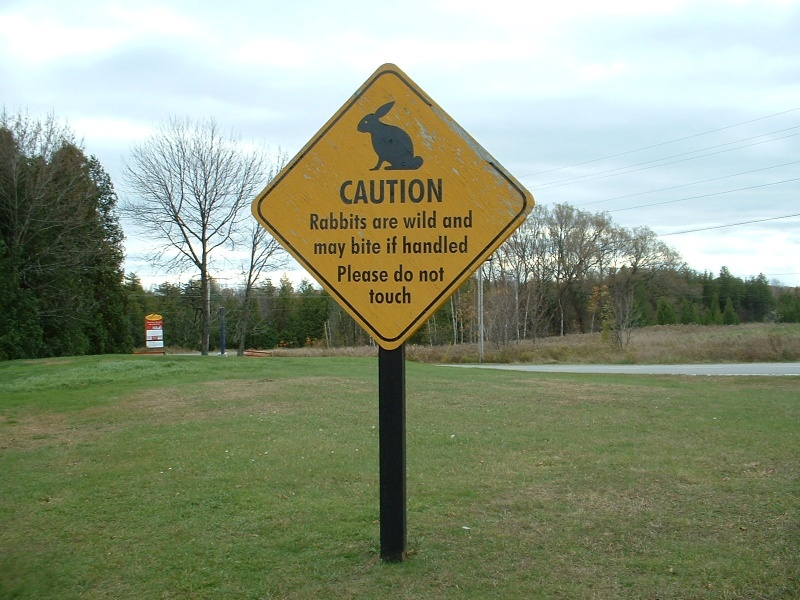text: (353, 178, 368, 206), (369, 178, 384, 206), (385, 178, 400, 206), (401, 178, 416, 206), (417, 178, 432, 206), (341, 178, 352, 206), (433, 178, 444, 206), (417, 210, 432, 230), (449, 209, 464, 229), (353, 264, 368, 284), (369, 264, 384, 284), (369, 286, 384, 306), (385, 286, 400, 306), (321, 212, 336, 231), (337, 212, 352, 231), (353, 236, 368, 255), (417, 236, 432, 255), (433, 236, 448, 255), (449, 236, 464, 255), (402, 210, 416, 230), (338, 264, 352, 284), (321, 242, 336, 260), (353, 212, 367, 231), (386, 236, 400, 255), (402, 236, 416, 255), (401, 264, 414, 284), (369, 236, 381, 255), (419, 266, 432, 283), (433, 266, 446, 283), (401, 286, 412, 306), (385, 217, 400, 230), (310, 212, 320, 231), (337, 242, 347, 260), (465, 209, 473, 229), (373, 217, 384, 230), (442, 209, 448, 229), (394, 264, 400, 284), (314, 242, 320, 260), (433, 210, 438, 230), (385, 264, 389, 284), (465, 236, 469, 255)
